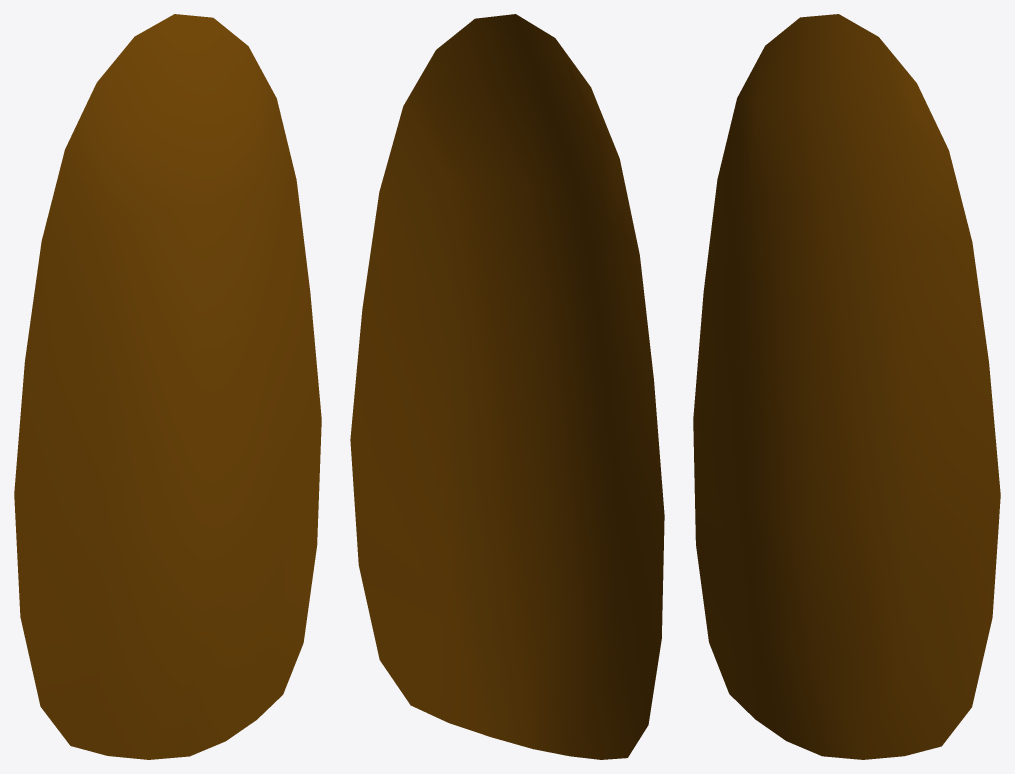
Rendered from MD_nail_oval_HandR.Middle.fbx.
The picture shows the model from 3 angles, left to right: view 1: azimuth 30°, elevation 25°; view 2: azimuth 150°, elevation 25°; view 3: azimuth 330°, elevation 25°; orthographic projection. The views are drawn at different scales.
Visible parts, largest first — view 1: MD_nail_oval_HandR.Middle; view 2: MD_nail_oval_HandR.Middle; view 3: MD_nail_oval_HandR.Middle.
Part boxes in pixels (x1=…): MD_nail_oval_HandR.Middle: x1=14, y1=14, x2=321, y2=759; MD_nail_oval_HandR.Middle: x1=350, y1=14, x2=664, y2=759; MD_nail_oval_HandR.Middle: x1=693, y1=14, x2=1000, y2=759.
Size of the model in its own units: 0.7542 by 1.71 by 0.1448.
